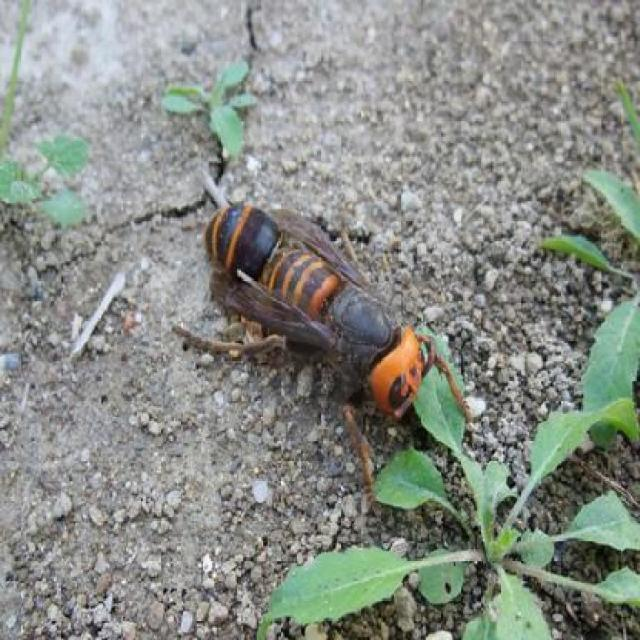Wasp: (180, 167, 476, 493)
